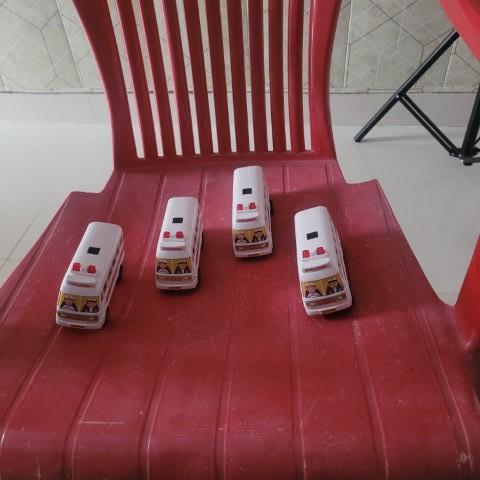ambulance: (53, 220, 127, 334), (291, 202, 355, 318), (152, 195, 205, 290), (230, 162, 275, 261)
